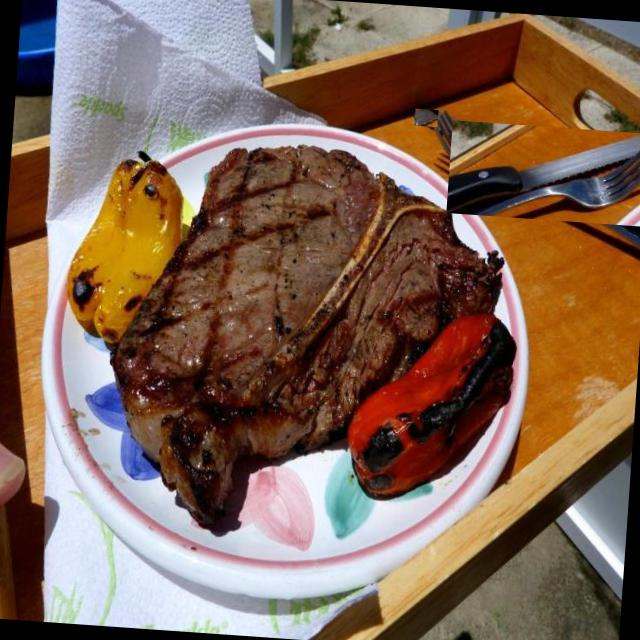Gun: (447, 134, 640, 213), (415, 110, 438, 125)
